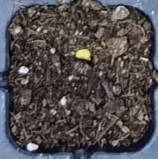chilli seed: (74, 48, 92, 61)
